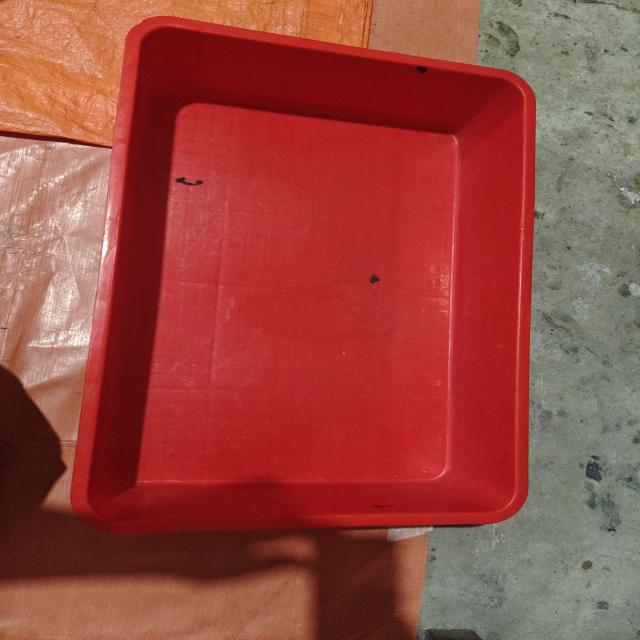red plastic box: (71, 15, 536, 532)
